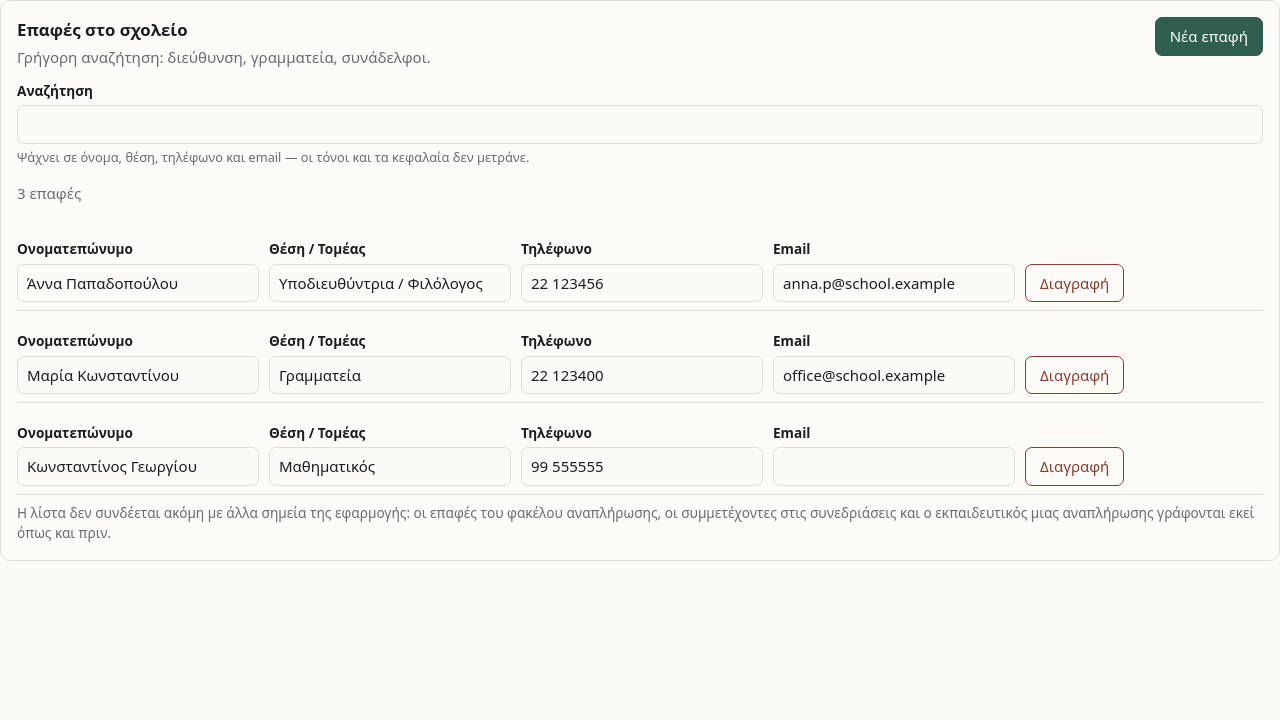
Test: Επαφές στο σχολείο › searches without accents or case, and names how many it is showing
In the search field labelled "Αναζήτηση": (640, 124) [17,105,1263,144], type "ΓΡΑΜΜΑΤΕΙΑ"
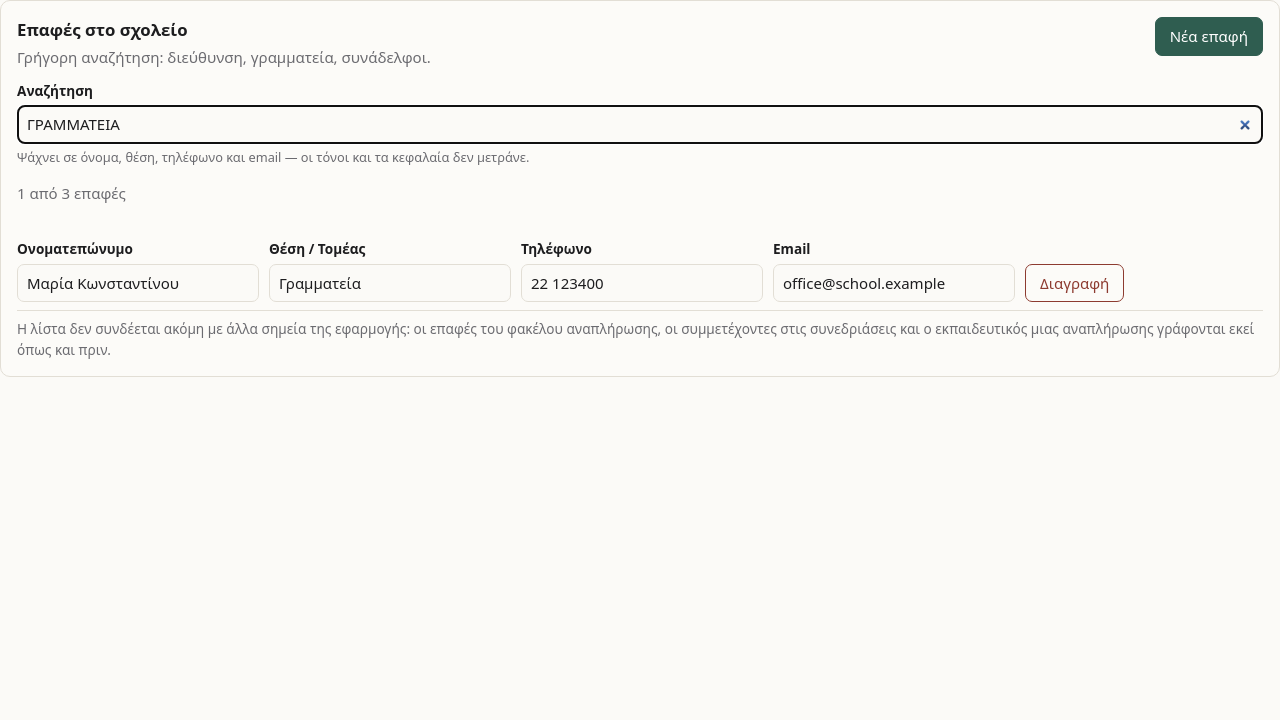
Check: the field labelled "Θέση / Τομέας" holds "Γραμματεία", box [269,264,511,302]
Check: the text "1 από 3 επαφές" is shown, box [17,183,126,203]
